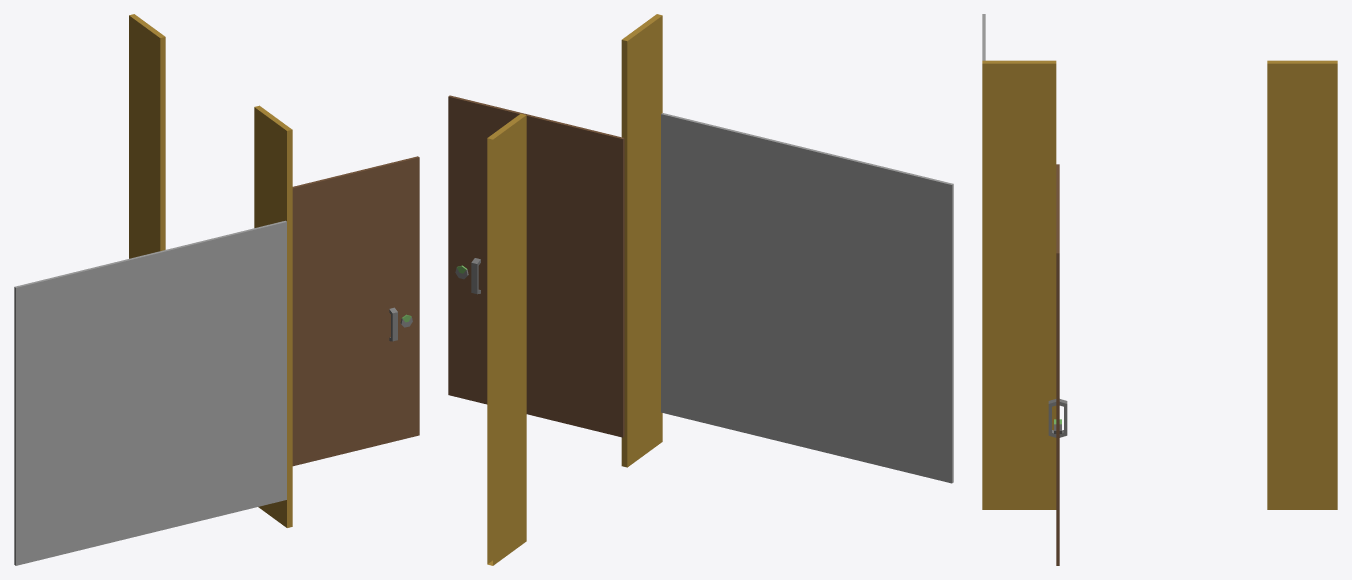
File: Int_RestroomPartition01_1.fbx
3 views of the same model, side by side, from view 1: azimuth 30°, elevation 25°; view 2: azimuth 150°, elevation 25°; view 3: azimuth 270°, elevation 25° (orthographic). The views are drawn at different scales.
Parts seen in each view (by area): view 1: Int_RestroomPartition01_1, Int_RestroomPartitionDoor01; view 2: Int_RestroomPartition01_1, Int_RestroomPartitionDoor01; view 3: Int_RestroomPartition01_1, Int_RestroomPartitionDoor01.
Part boxes in pixels (x1=…): Int_RestroomPartition01_1: x1=14, y1=14, x2=292, y2=565; Int_RestroomPartitionDoor01: x1=292, y1=156, x2=419, y2=466; Int_RestroomPartition01_1: x1=487, y1=14, x2=953, y2=565; Int_RestroomPartitionDoor01: x1=448, y1=95, x2=624, y2=437; Int_RestroomPartition01_1: x1=982, y1=14, x2=1337, y2=509; Int_RestroomPartitionDoor01: x1=1048, y1=164, x2=1067, y2=565.
Size of what is drawn, in the model's own units: 403 by 252 by 350.
